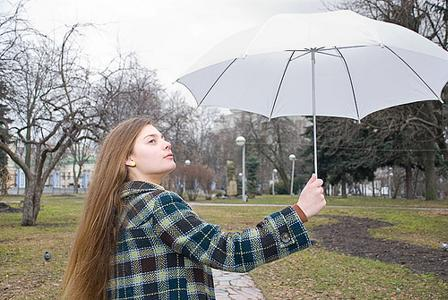person: (63, 118, 327, 300)
